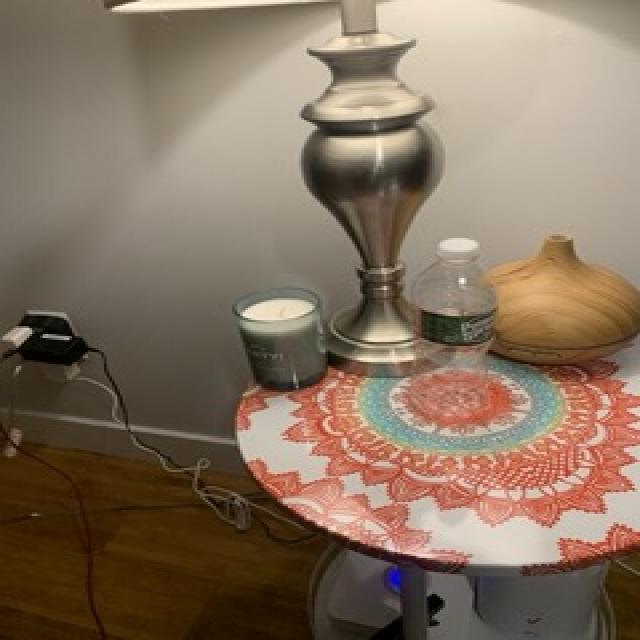water_bottle: (411, 238, 497, 418)
